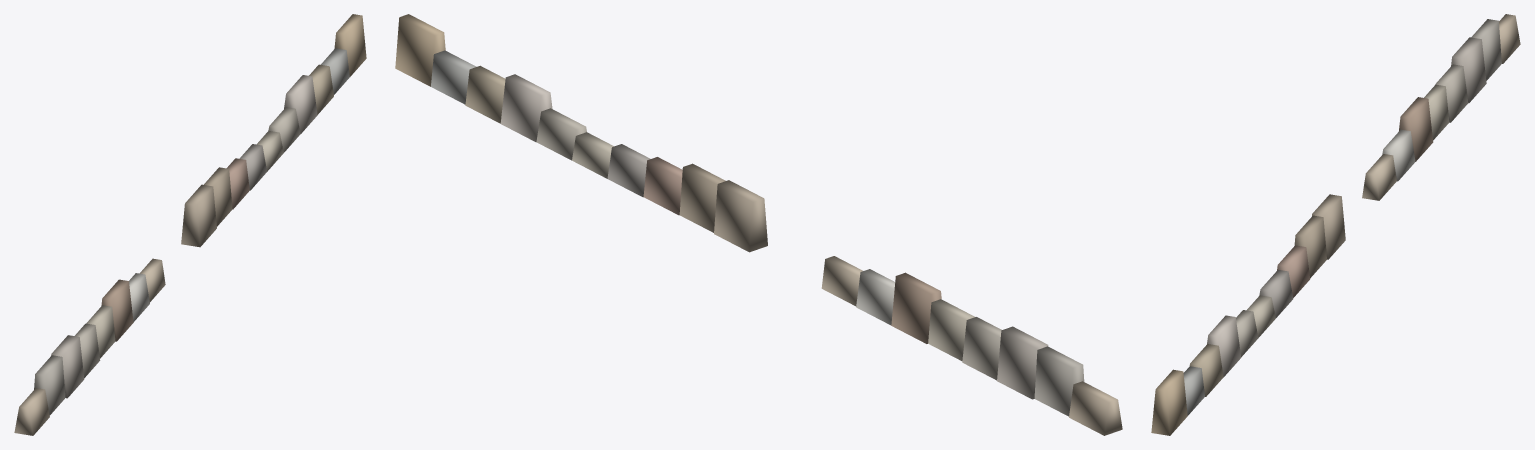
File: farm_-43_-35_collision.glb
The picture shows the model from 3 angles, left to right: view 1: azimuth 90°, elevation 25°; view 2: azimuth 150°, elevation 25°; view 3: azimuth 270°, elevation 25°; orthographic projection. The views are drawn at different scales.
Parts seen in each view (by area): view 1: geometry_0; view 2: geometry_0; view 3: geometry_0.
Part boxes in pixels (box(x1,y1,x2,y2)): geometry_0: box(14, 14, 366, 435); geometry_0: box(395, 14, 1122, 435); geometry_0: box(1151, 14, 1520, 435).
Size of the model in its own units: 29.77 by 1.62 by 11.71.
